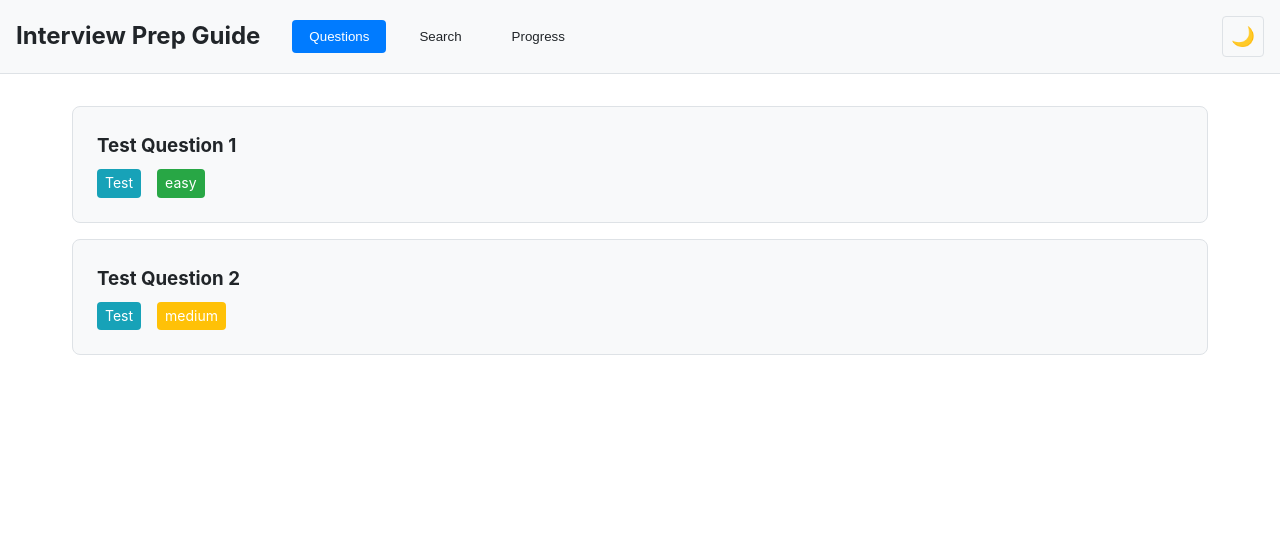
Test case: App › navigation › should switch to progress view
The width and height of the screenshot is (1280, 544).
Click the button "Progress": (538, 36) [495,20,582,53]
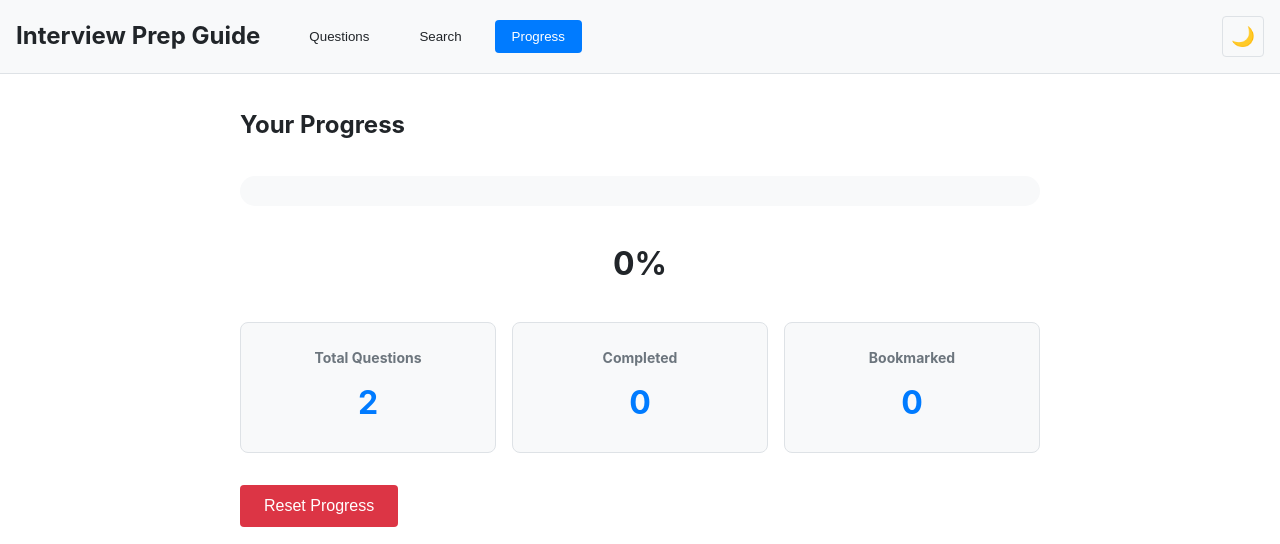
Expected: the element that starts with "Interview Prep Guide" shows "Your Progress", [240,110,405,139]
